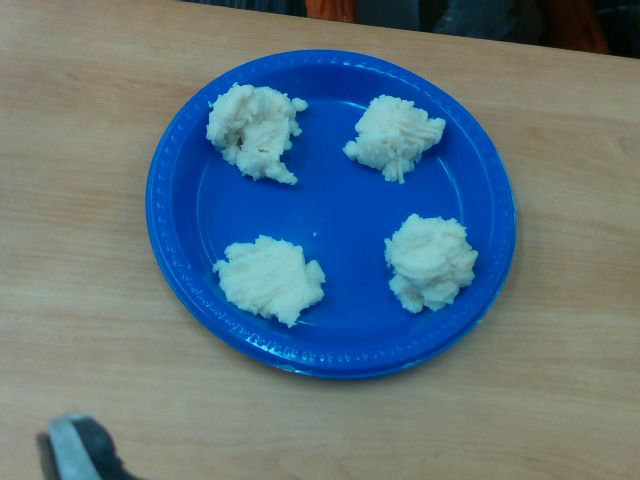mashed_potato: (212, 234, 326, 329), (206, 82, 309, 185), (341, 94, 446, 183), (384, 214, 478, 313)
